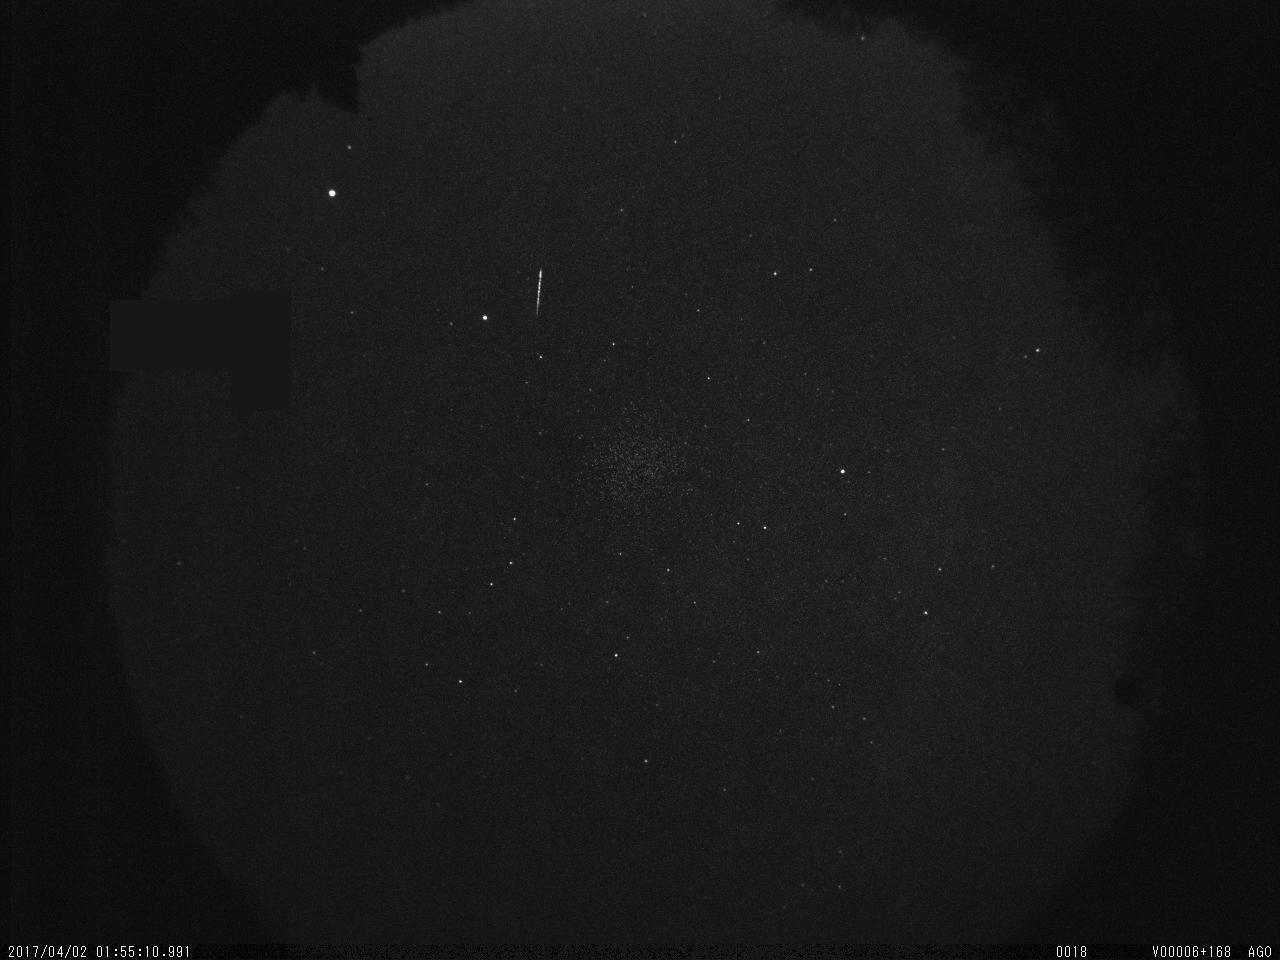Meteor: (533, 266, 544, 315)
